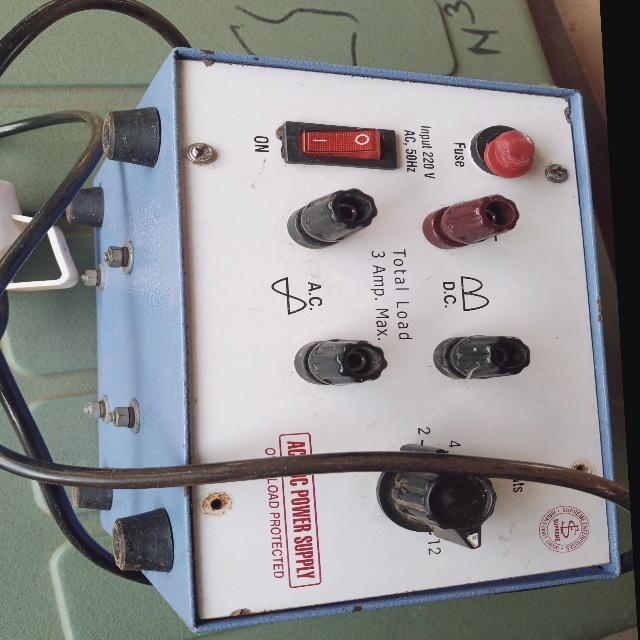AC and DC Power Supply 12 V: (62, 38, 636, 633)
